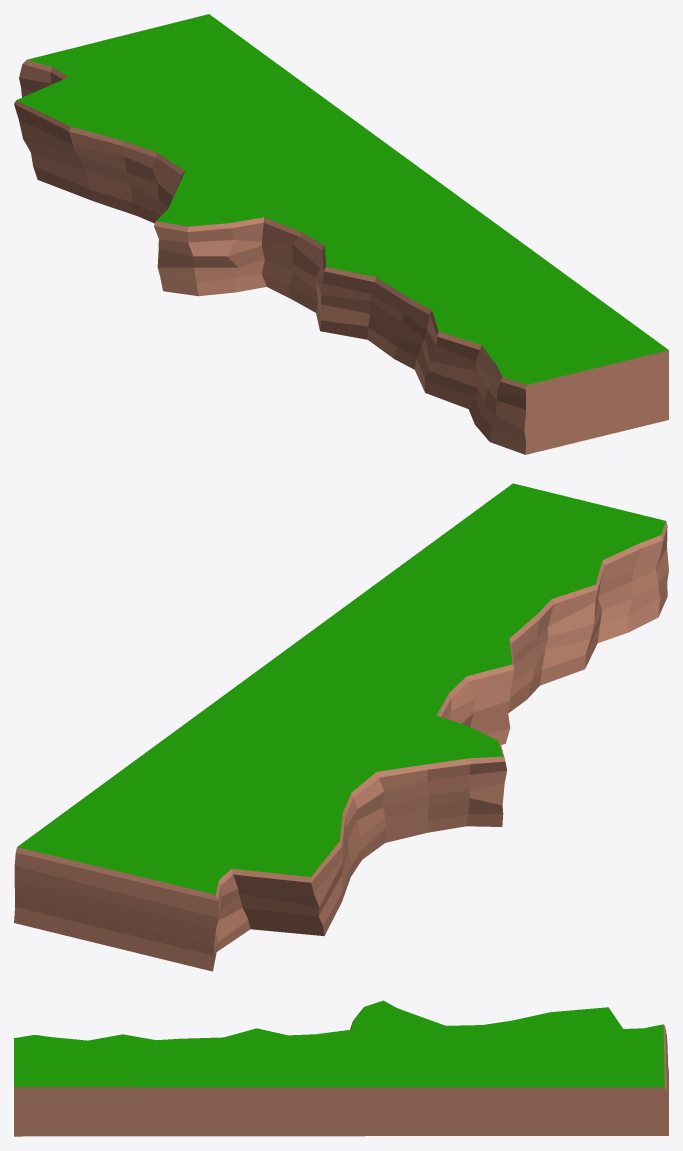
The model's file is Cliff_2.fbx.
The picture shows the model from 3 angles, top to bottom: view 1: azimuth 30°, elevation 25°; view 2: azimuth 150°, elevation 25°; view 3: azimuth 270°, elevation 25°; orthographic projection. The views are drawn at different scales.
Visible parts, largest first — view 1: Plane; view 2: Plane; view 3: Plane.
Part boxes in pixels (box(x1,y1,x2,y2)): Plane: box(14, 14, 668, 454); Plane: box(14, 483, 668, 971); Plane: box(14, 1000, 668, 1136).
Size of the model in its own units: 31.1 by 8.17 by 98.08.
